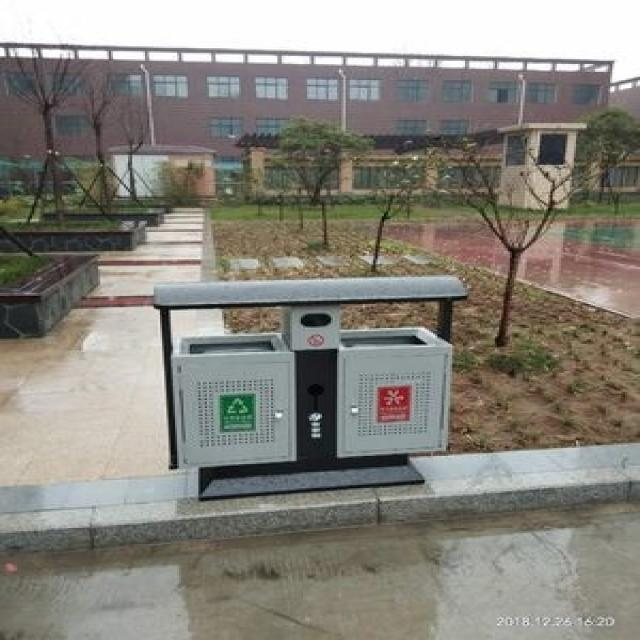ash bin: (143, 272, 465, 498)
